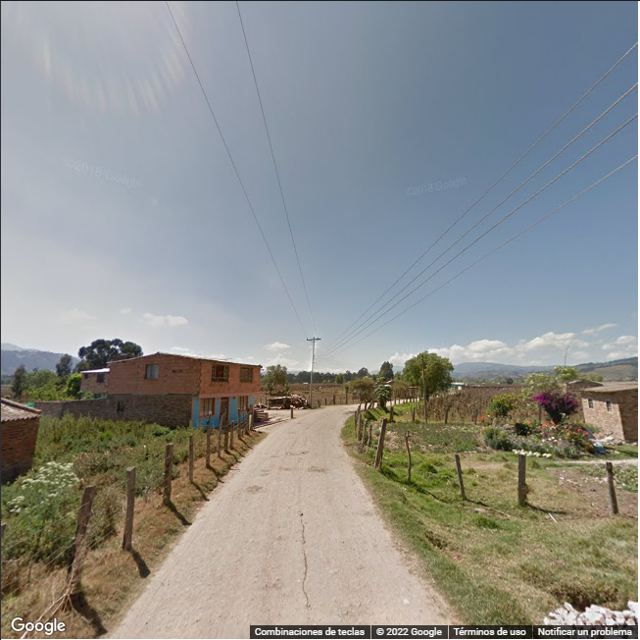D00: (297, 546, 308, 606), (296, 512, 306, 542)
